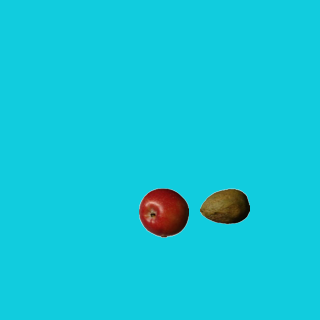Apple Braeburn: (138, 187, 188, 237)
Papaya: (199, 181, 249, 231)
